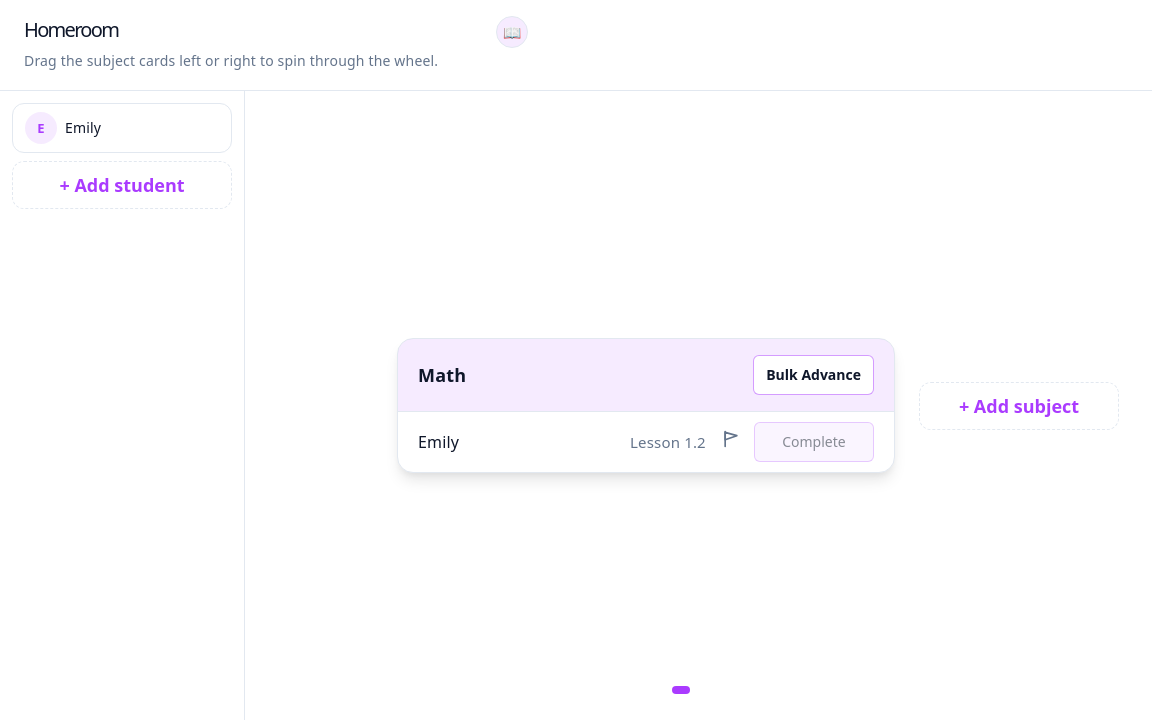
ClassBoard › right-click -> "Jump to lesson..." -> picking a lesson moves the student directly to it in the real db
Right-click the text "Emily" next to "Lesson 1.2" at x=439, y=442, box [418,431,459,453]
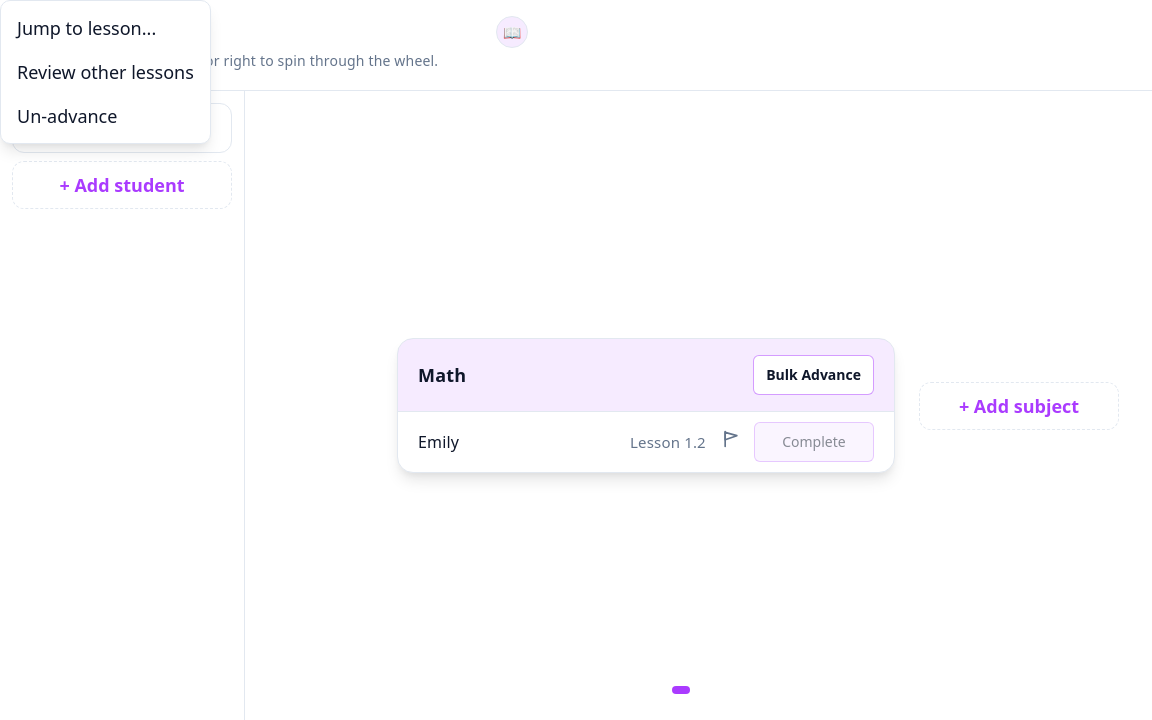
Click the menu item "Jump to lesson..." at x=105, y=28, box [7,7,204,49]
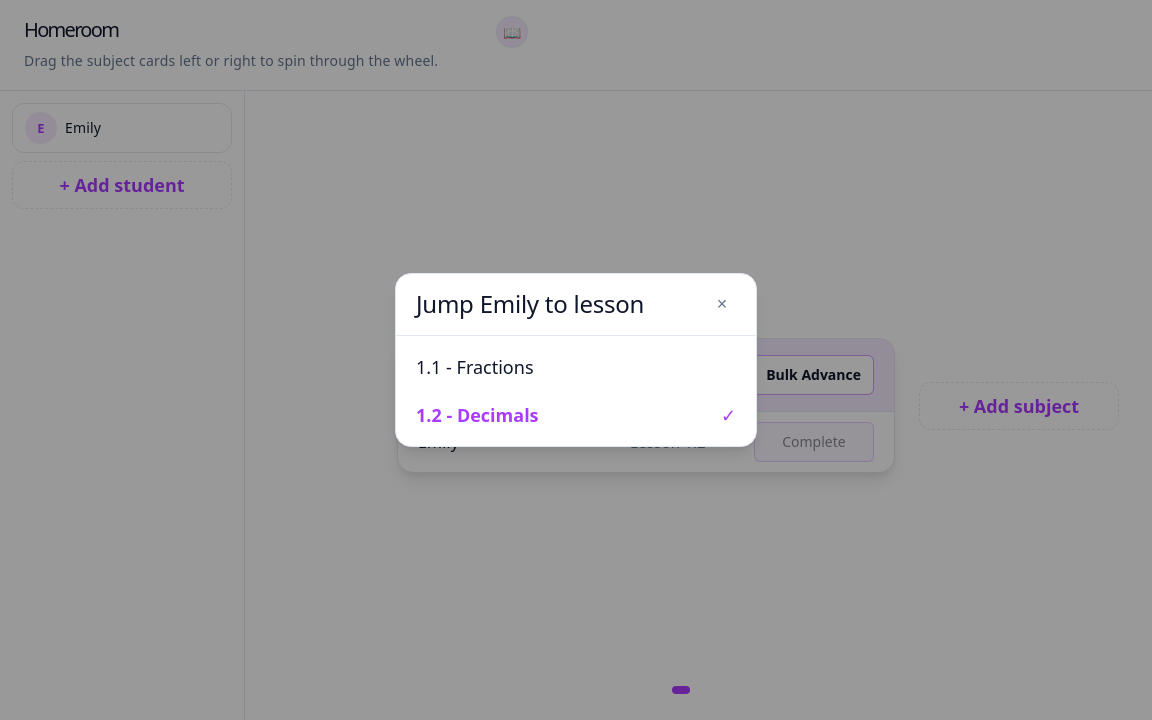
Click the button "1.1 - Fractions" at x=475, y=367, box [404,344,748,390]
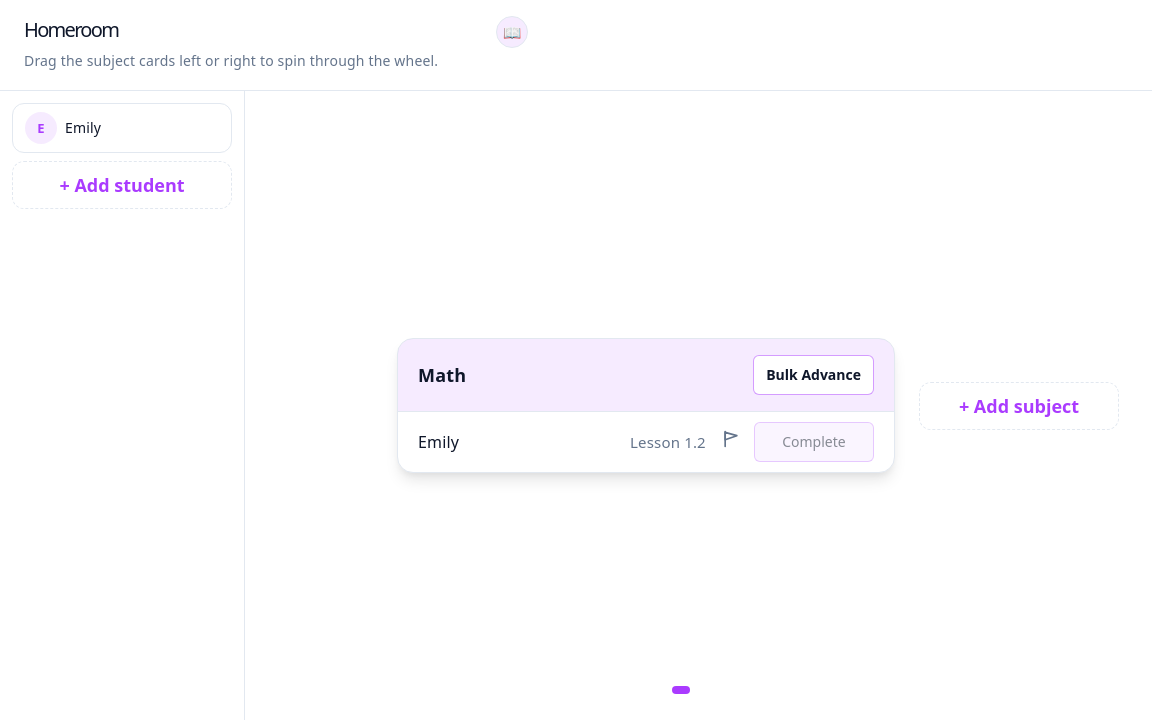
Now the dialog is gone
